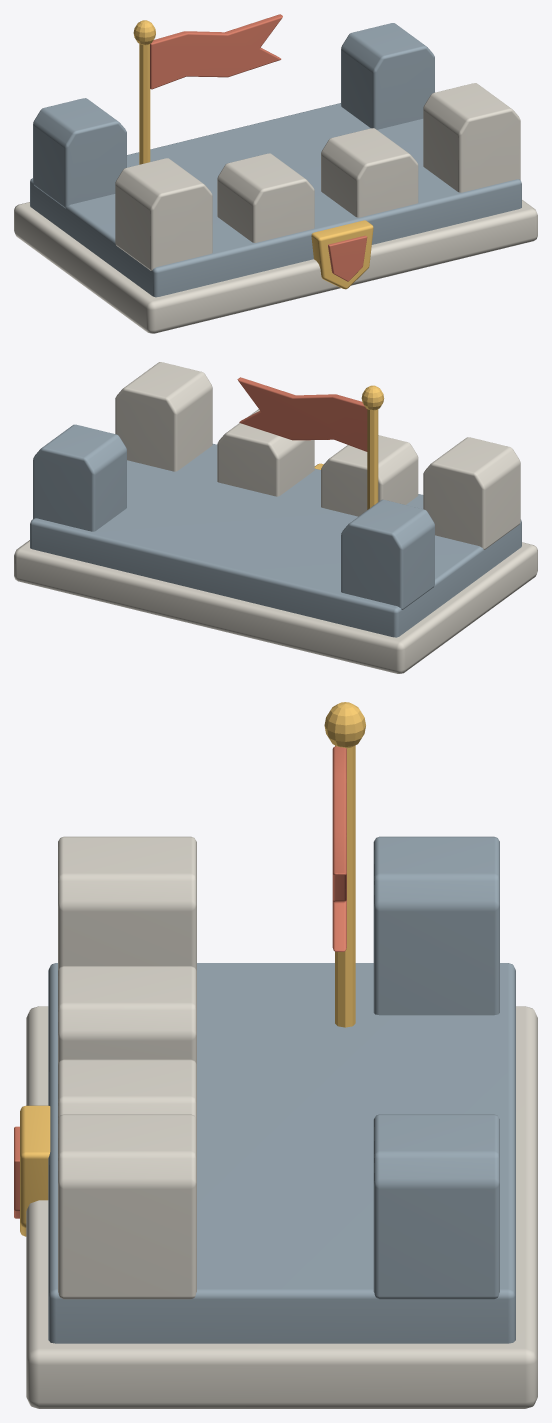
File: TowerCrown.fbx
3 renders of one model, top to bottom at view 1: azimuth 30°, elevation 25°; view 2: azimuth 150°, elevation 25°; view 3: azimuth 270°, elevation 25°, orthographic. The views are drawn at different scales.
Visible parts, largest first — view 1: TowerCrown_Keep_Limestone, TowerCrown_Keep_Ashlar, TowerCrown_Keep_Vermilion, TowerCrown_Gold; view 2: TowerCrown_Keep_Ashlar, TowerCrown_Keep_Limestone, TowerCrown_Keep_Vermilion, TowerCrown_Gold; view 3: TowerCrown_Keep_Ashlar, TowerCrown_Keep_Limestone, TowerCrown_Gold, TowerCrown_Keep_Vermilion.
Boxes of the visible parts, x1,y1,x2,y2 form: TowerCrown_Keep_Limestone: (14, 83, 537, 333); TowerCrown_Keep_Ashlar: (30, 23, 521, 297); TowerCrown_Keep_Vermilion: (150, 14, 367, 281); TowerCrown_Gold: (133, 20, 373, 289); TowerCrown_Keep_Ashlar: (30, 424, 521, 637); TowerCrown_Keep_Limestone: (14, 362, 537, 673); TowerCrown_Keep_Vermilion: (237, 377, 367, 451); TowerCrown_Gold: (314, 385, 384, 509); TowerCrown_Keep_Ashlar: (48, 836, 515, 1343); TowerCrown_Keep_Limestone: (26, 836, 537, 1408); TowerCrown_Gold: (20, 702, 365, 1236); TowerCrown_Keep_Vermilion: (14, 746, 346, 1218).
Bounding box in the file's own units: 264 × 151 × 166.
